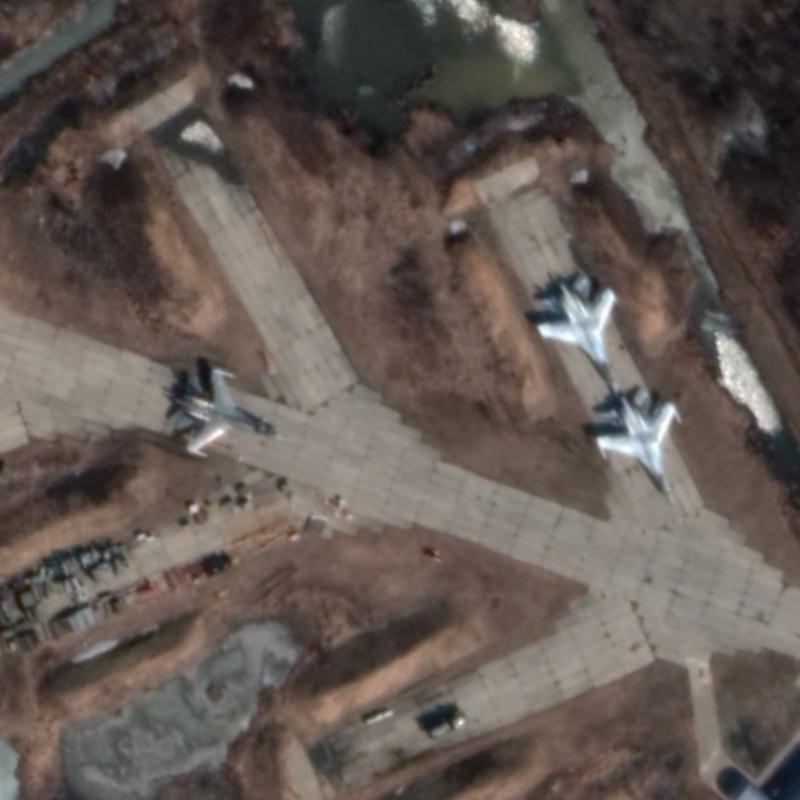A1: (589, 381, 685, 511), (530, 267, 622, 402), (167, 360, 290, 460)
